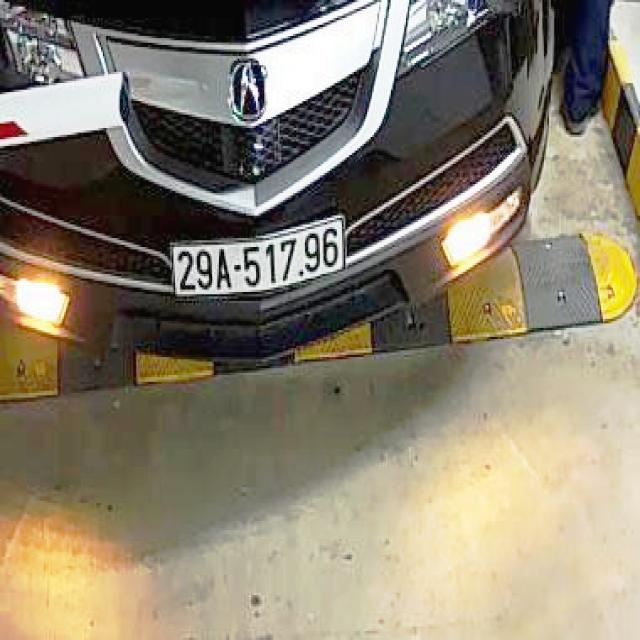license_plate: (172, 216, 347, 298)
